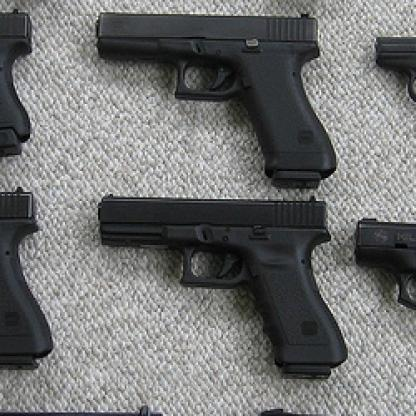gun: (87, 185, 350, 381), (89, 0, 345, 191), (0, 182, 65, 374), (356, 202, 414, 404), (360, 23, 414, 152)
